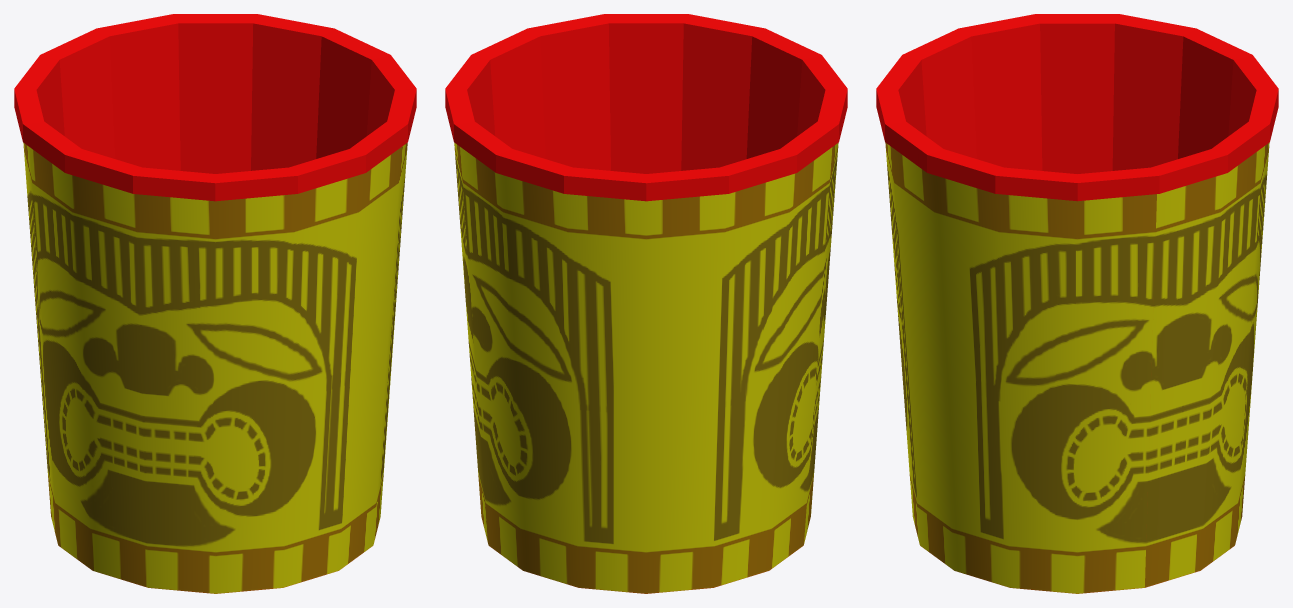
The model's file is BeARPong_Cup_V.02.06.fbx.
The picture shows the model from 3 angles, left to right: view 1: azimuth 30°, elevation 25°; view 2: azimuth 150°, elevation 25°; view 3: azimuth 270°, elevation 25°; orthographic projection.
Parts seen in each view (by area): view 1: pCylinder1; view 2: pCylinder1; view 3: pCylinder1.
Boxes of the visible parts, x1=… form: pCylinder1: x1=14, y1=14, x2=416, y2=593; pCylinder1: x1=445, y1=14, x2=847, y2=593; pCylinder1: x1=876, y1=14, x2=1278, y2=593.
Size of the model in its own units: 10.22 by 12.01 by 10.28.
